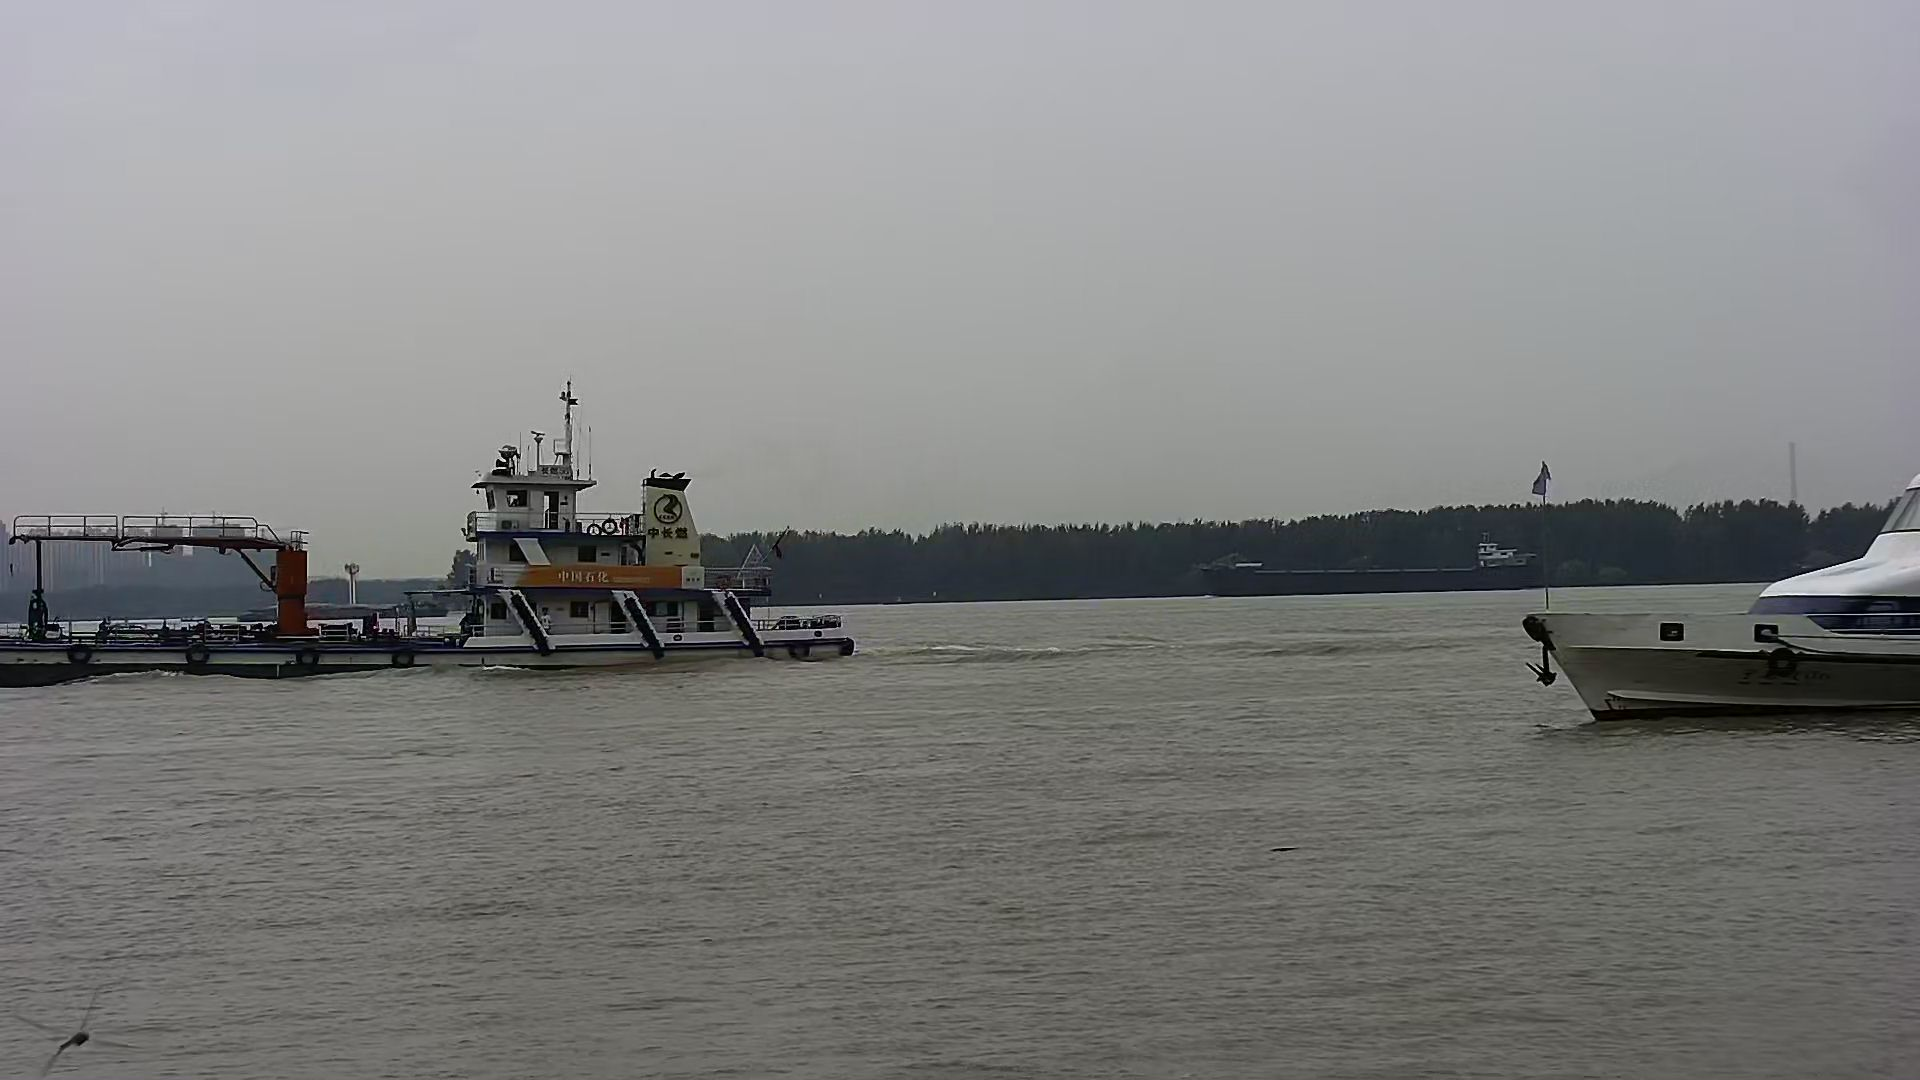ship: (1, 419, 855, 690), (1526, 473, 1920, 717), (1197, 533, 1545, 593)
